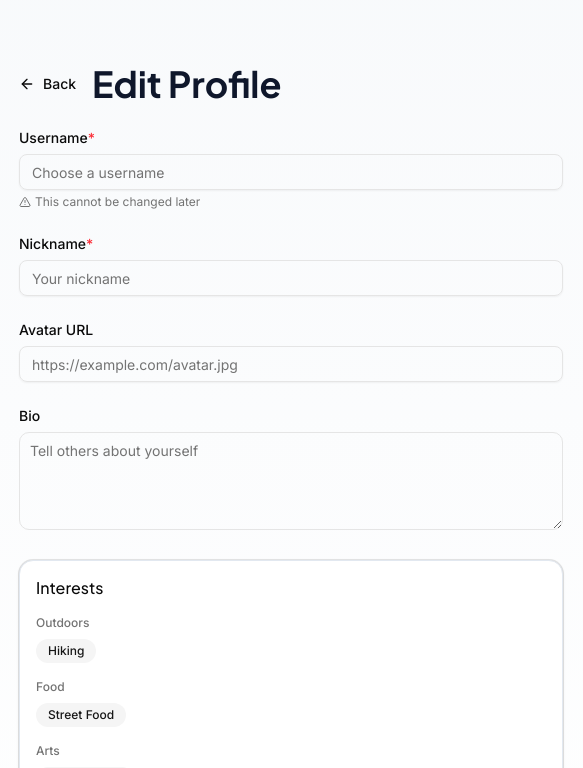
Test: EditProfilePage › validates nickname is at least 2 characters
Type "A" into the field with placeholder "Your nickname" at (291, 278), box [19, 260, 563, 296]
(page scrolled)
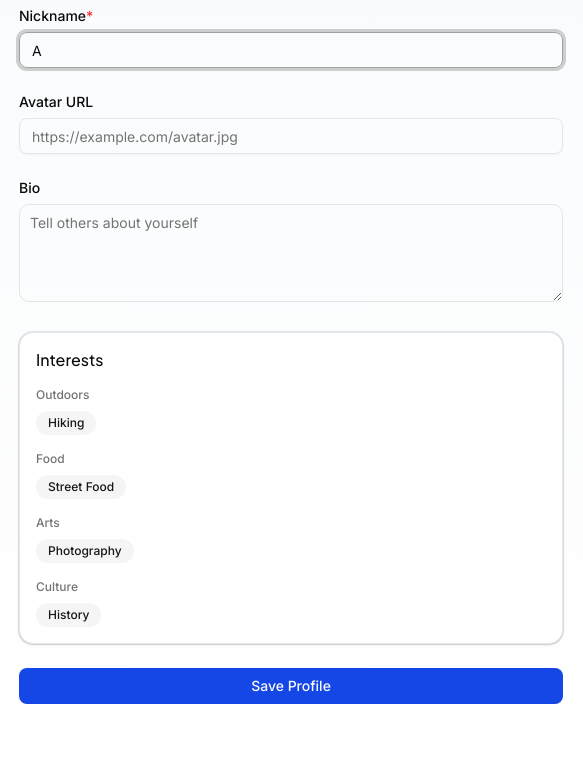
Click the button "Save Profile" at (291, 686), box [19, 668, 563, 704]
(page scrolled)
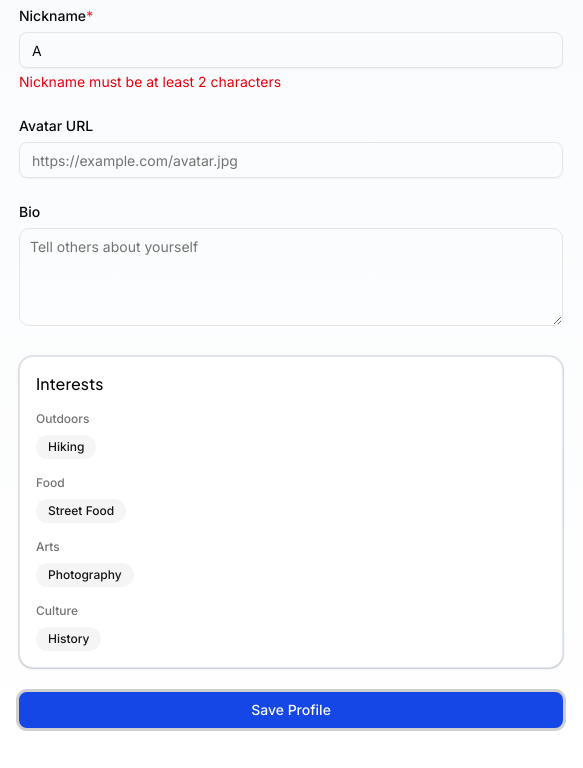
expect the text "Nickname must be at least 2 characters" is shown: met, box [19, 73, 281, 90]
